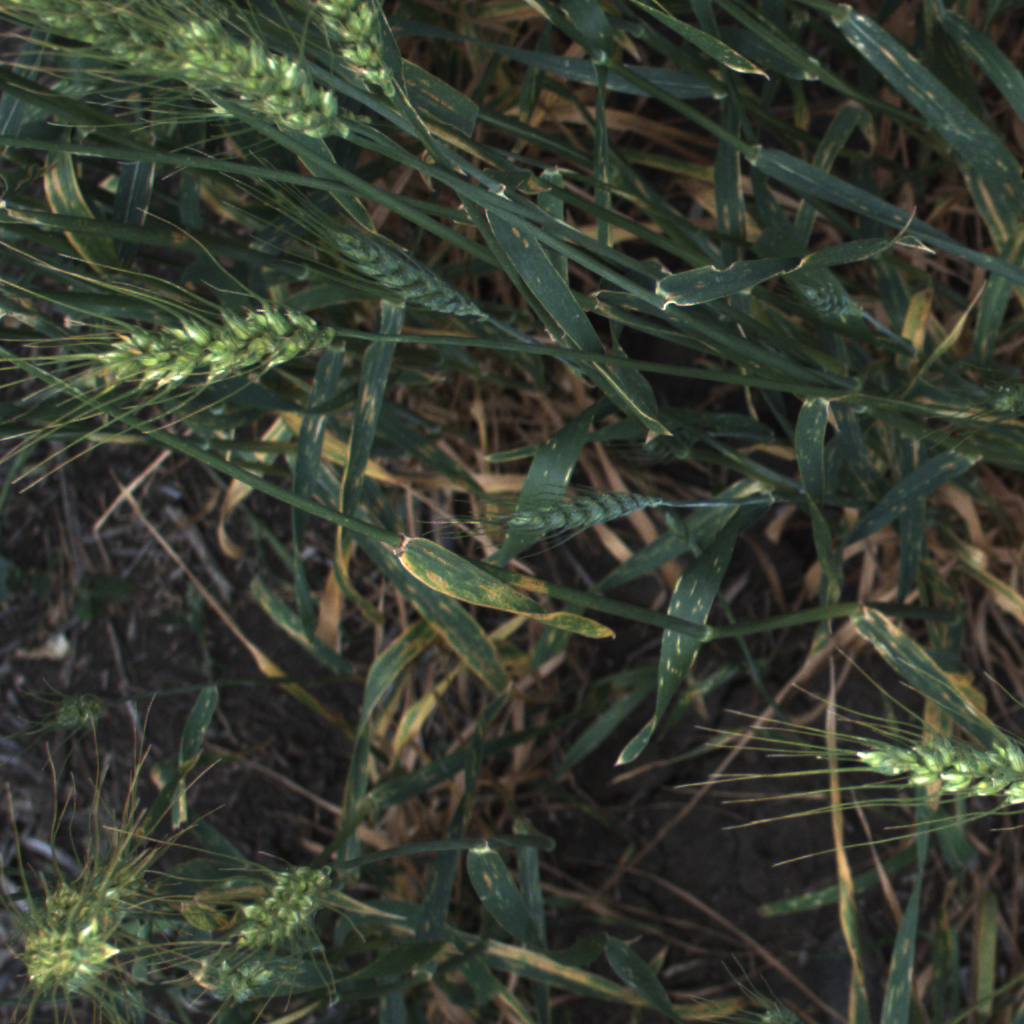wheat_head: (43, 279, 332, 406), (848, 720, 1024, 834), (309, 208, 482, 320), (235, 0, 423, 86), (177, 44, 343, 138), (229, 857, 346, 949), (30, 886, 123, 987), (36, 5, 169, 69), (502, 494, 646, 534), (189, 959, 274, 1001), (794, 281, 869, 321), (984, 380, 1021, 420)
